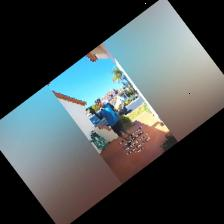person: (89, 100, 133, 146)
